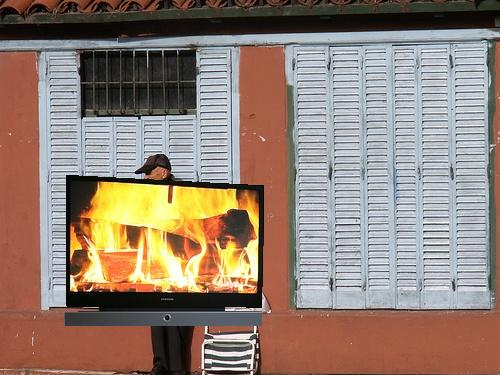tampered: (65, 176, 264, 326)
